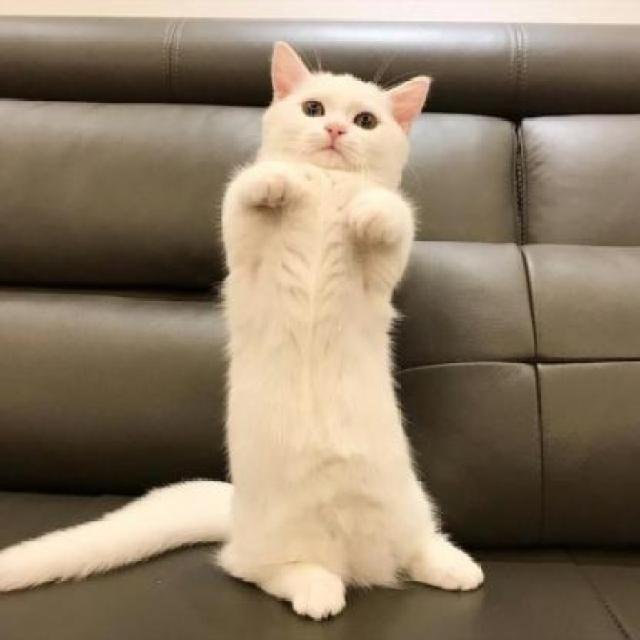cat: (0, 26, 494, 640)
